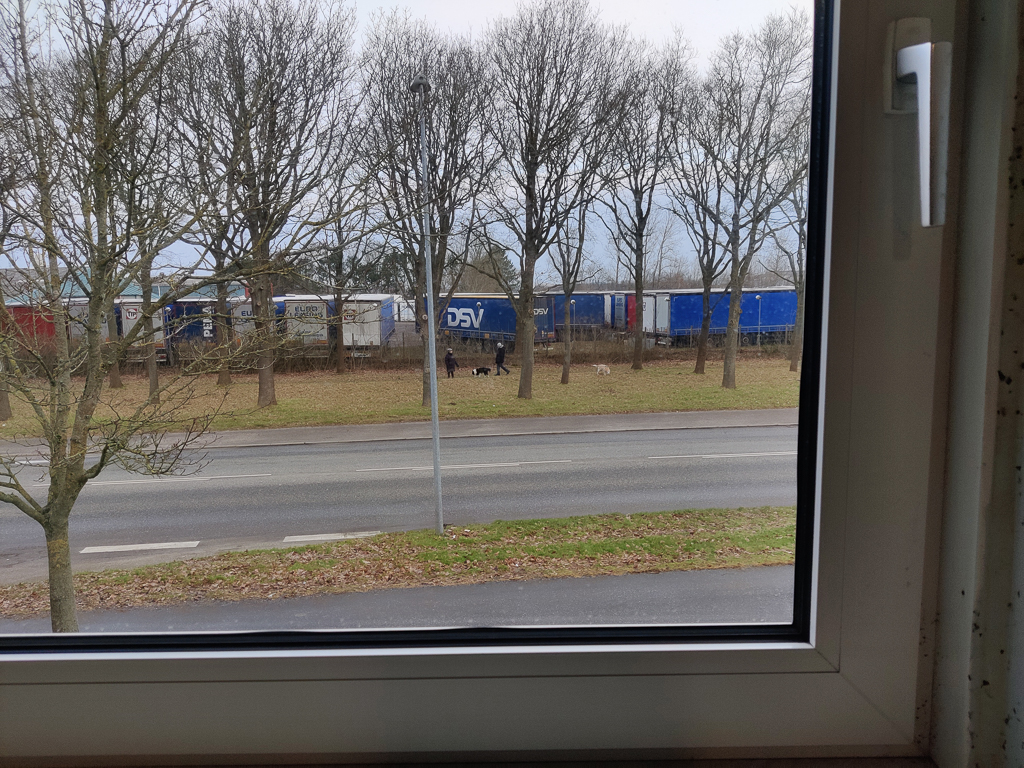Dog: (590, 361, 615, 377), (469, 366, 495, 380)
Humanoid: (493, 341, 513, 378), (441, 346, 462, 380)
